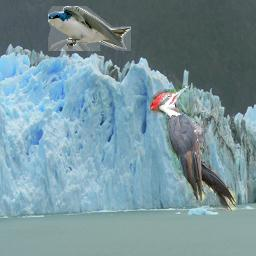Swallow: (48, 6, 131, 51)
Woodpecker: (150, 85, 236, 211)
